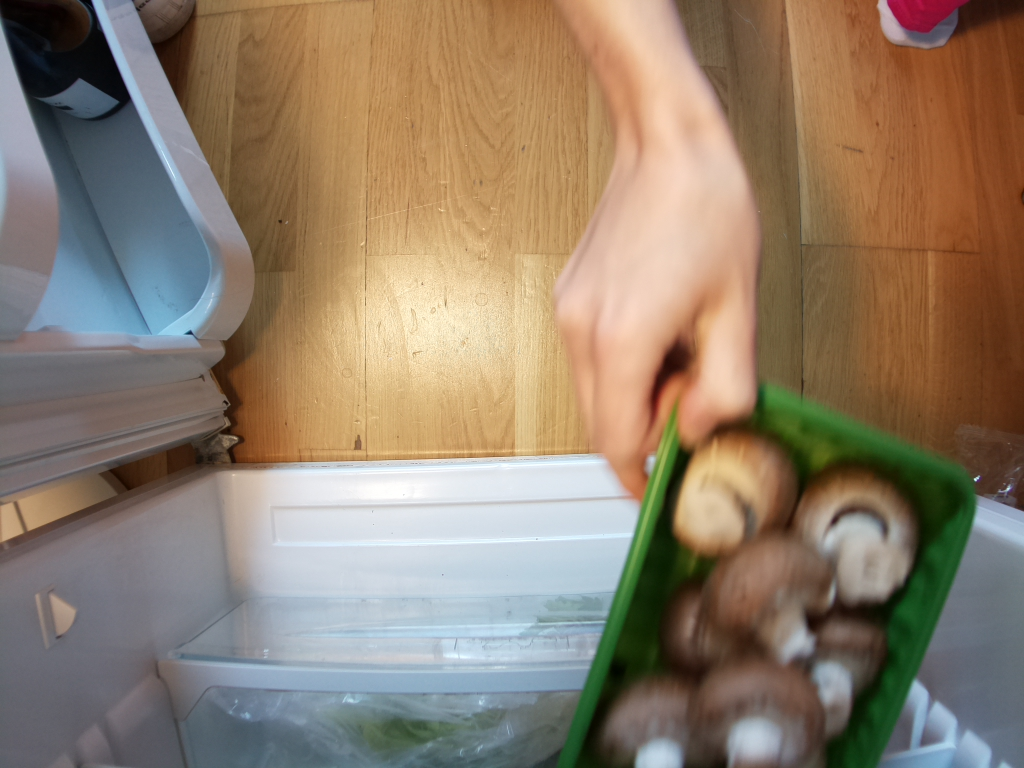mushrooms: (564, 379, 976, 768)
